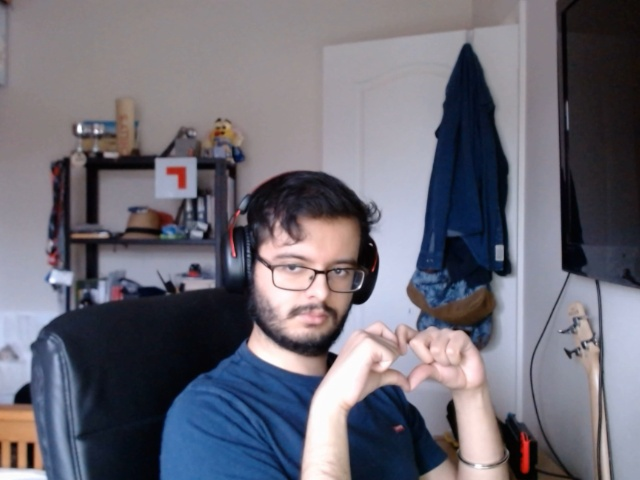Heart: (329, 324, 489, 395)
